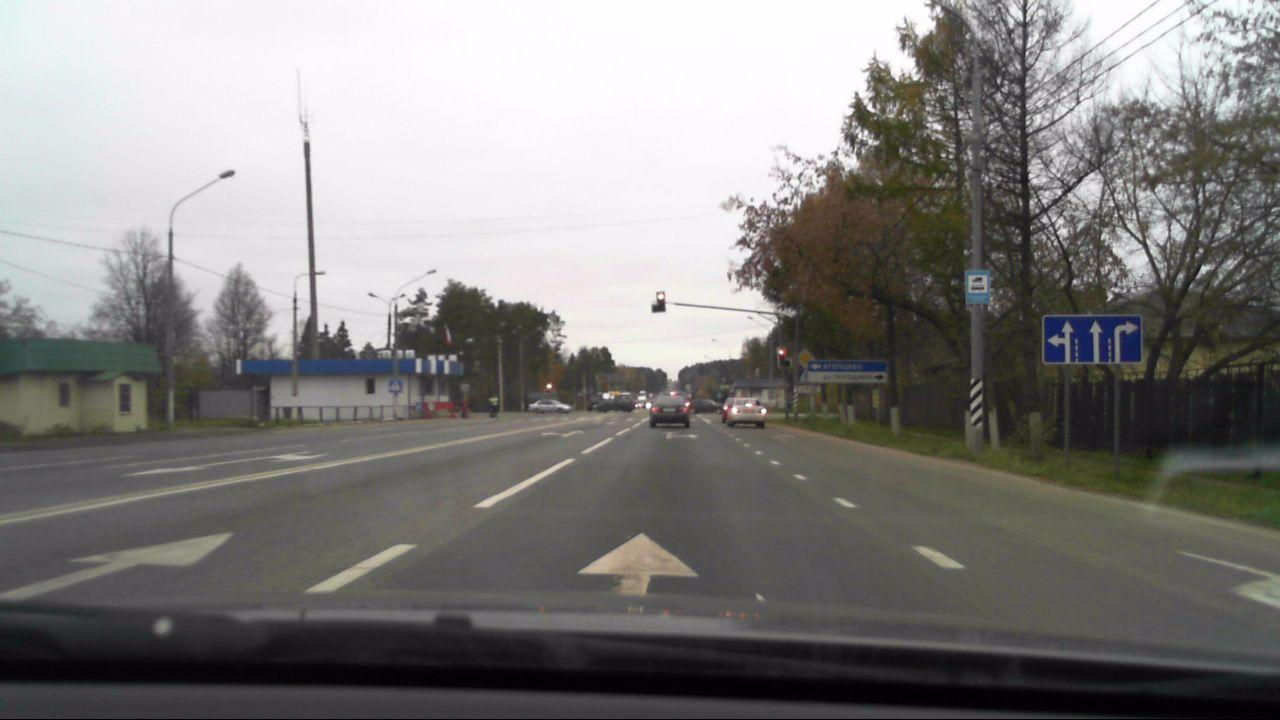2_1: (798, 348, 815, 368)
5_15_1: (1043, 314, 1143, 365)
5_19_2: (389, 378, 402, 393)
6_10_1: (808, 360, 886, 381)
7_14_2: (965, 268, 990, 305)
